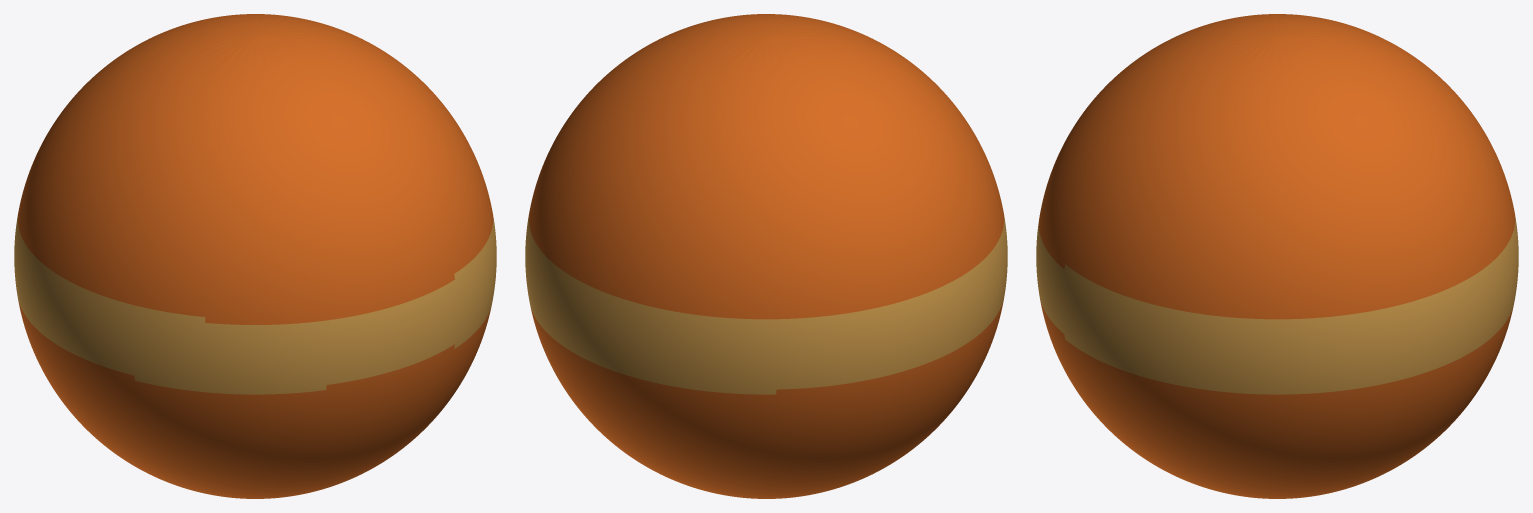
3 renders of one model, left to right at view 1: azimuth 30°, elevation 25°; view 2: azimuth 150°, elevation 25°; view 3: azimuth 270°, elevation 25°, orthographic.
Parts seen in each view (by area): view 1: Sphere; view 2: Sphere; view 3: Sphere.
Part boxes in pixels (x1,y1,x2,y2): Sphere: [14, 14, 496, 498]; Sphere: [525, 14, 1007, 498]; Sphere: [1036, 14, 1518, 498].
Size of the model in its own units: 165 by 166 by 165.
